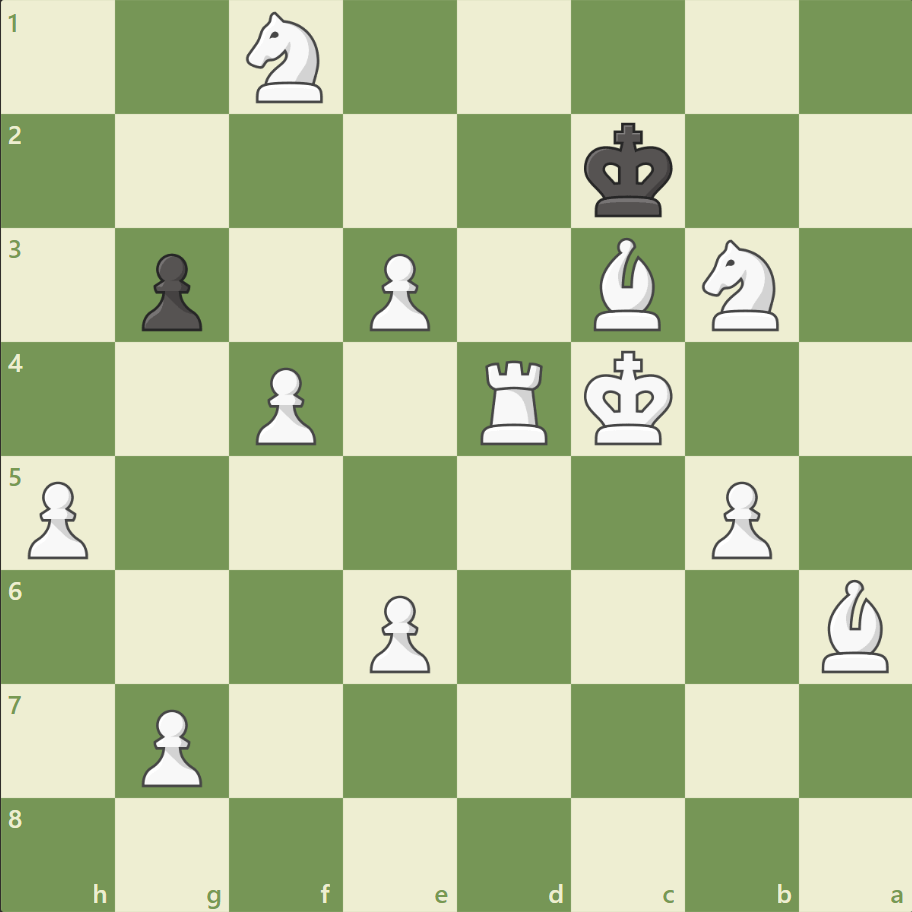B: (585, 233, 669, 336), (812, 574, 896, 676)
K: (579, 344, 679, 452)
N: (692, 234, 789, 337), (238, 7, 335, 110)
P: (133, 700, 208, 791), (701, 473, 776, 564), (20, 473, 95, 564), (247, 359, 322, 450), (361, 586, 435, 677), (361, 246, 435, 337)
R: (473, 352, 556, 449)
k: (579, 117, 679, 225)
p: (133, 246, 208, 337)
